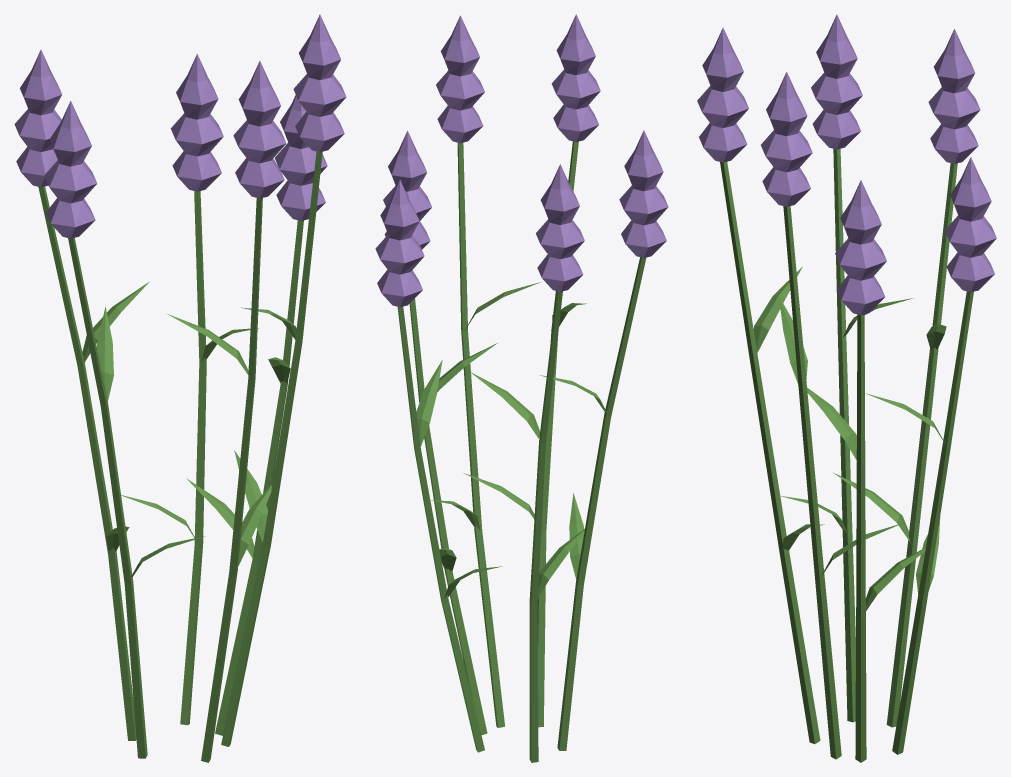
Rendered from flower_lavender.glb.
3 views of the same model, side by side, from view 1: azimuth 30°, elevation 25°; view 2: azimuth 150°, elevation 25°; view 3: azimuth 270°, elevation 25° (orthographic). The views are drawn at different scales.
Visible parts, largest first — view 1: flower_lavender; view 2: flower_lavender; view 3: flower_lavender.
Boxes of the visible parts, bbox=[...] form: flower_lavender: bbox=[14, 14, 346, 762]; flower_lavender: bbox=[375, 14, 668, 762]; flower_lavender: bbox=[697, 14, 996, 762].
Bounding box in the file's own units: 0.1784 × 0.43 × 0.1625.
